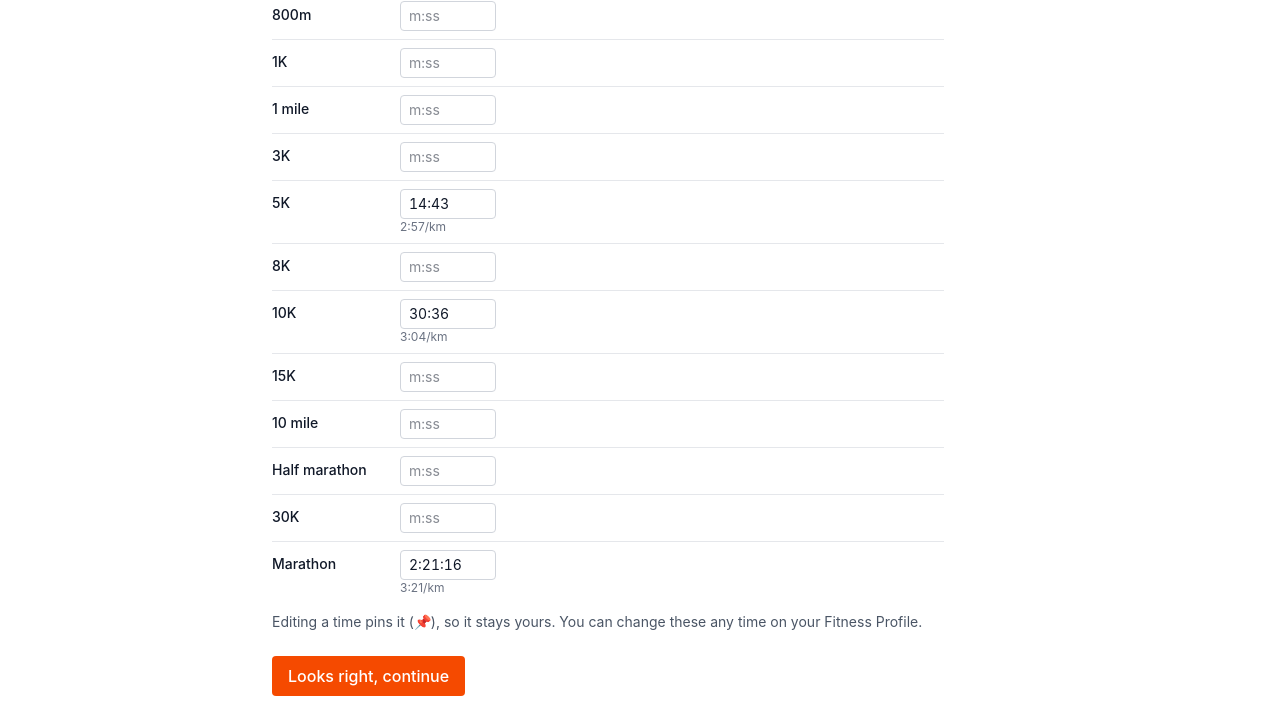
Test: the first-run wizard › pages Your targets in step 3
This screenshot has width=1280, height=708.
(page scrolled)
Click the button "Looks right, continue".
click(369, 676)  # box [272,656,465,696]
(page scrolled)
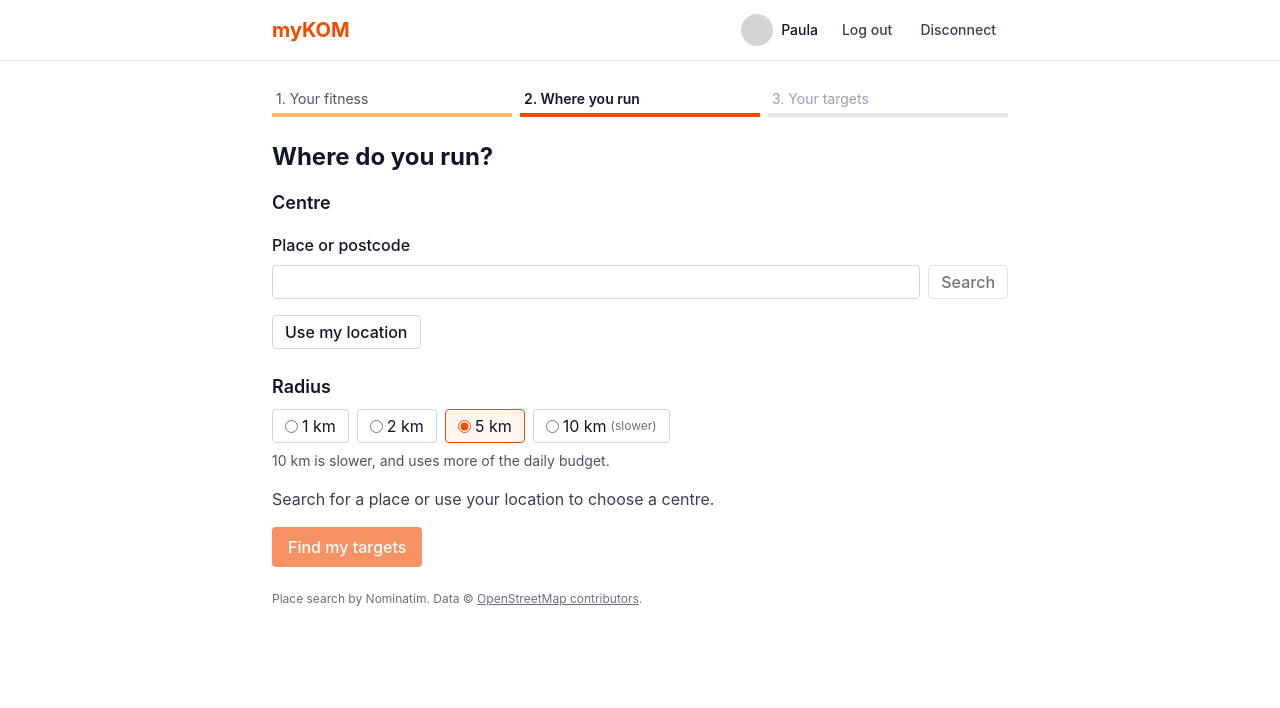
Type "High Park" into the search field labelled "Place or postcode".
click(596, 282); type("High Park")  # box [272,265,920,299]
Then press Enter
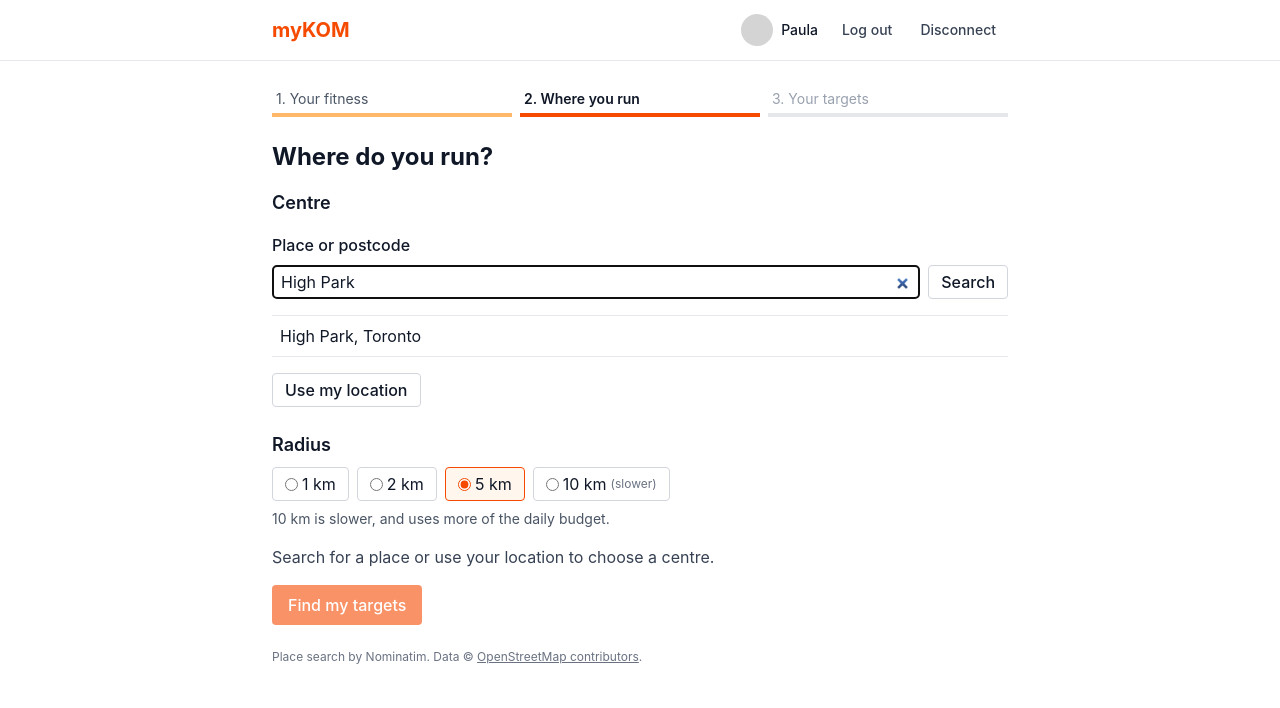
Click the button "High Park, Toronto".
click(351, 336)  # box [272,316,1008,356]
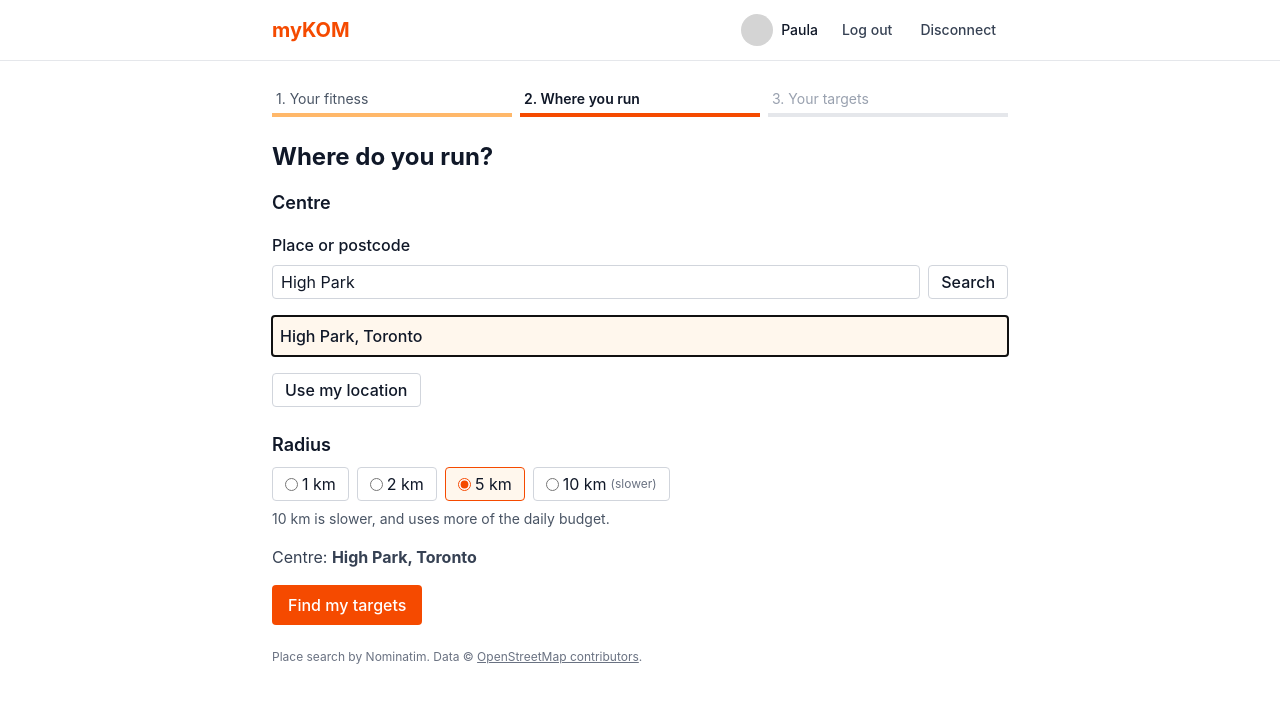
Click the button "Find my targets".
click(347, 605)  # box [272,585,422,625]
(page scrolled)
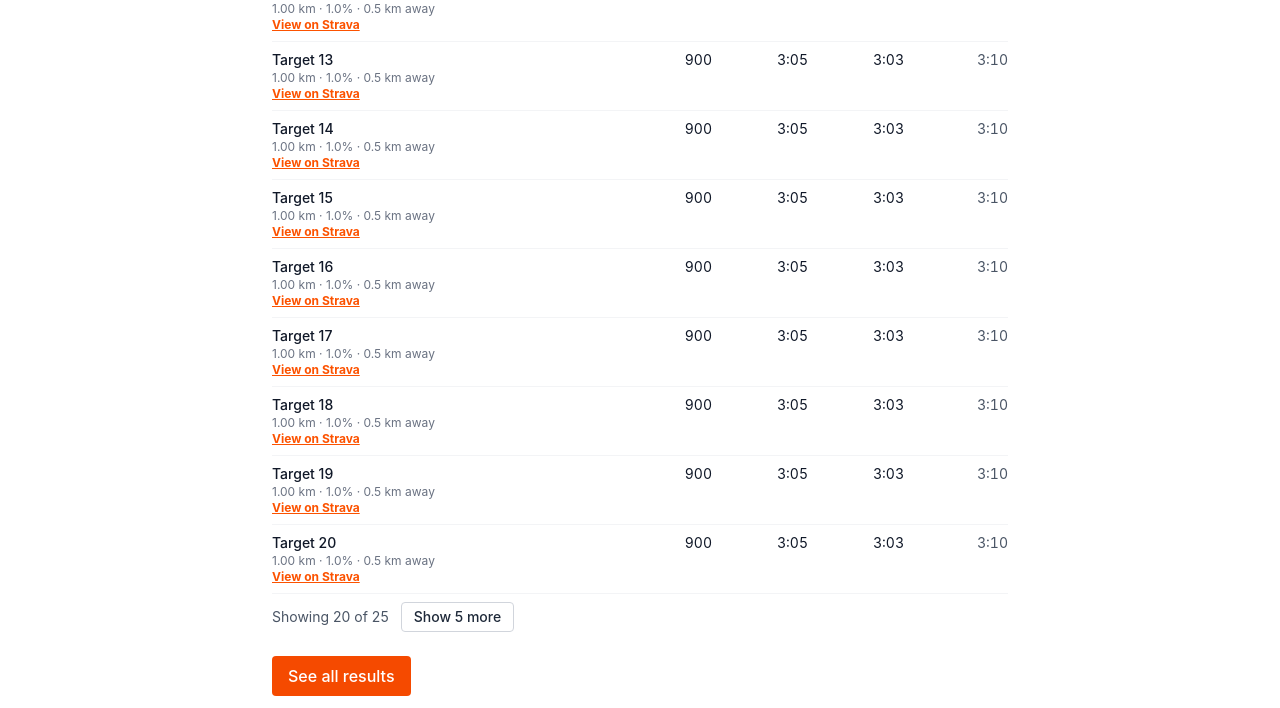
Result: the text "Showing 20 of 25" is shown at [272,607,389,627]
Click the button with aria-label "Show 5 more Your targets".
click(457, 617)  # box [401,602,514,632]
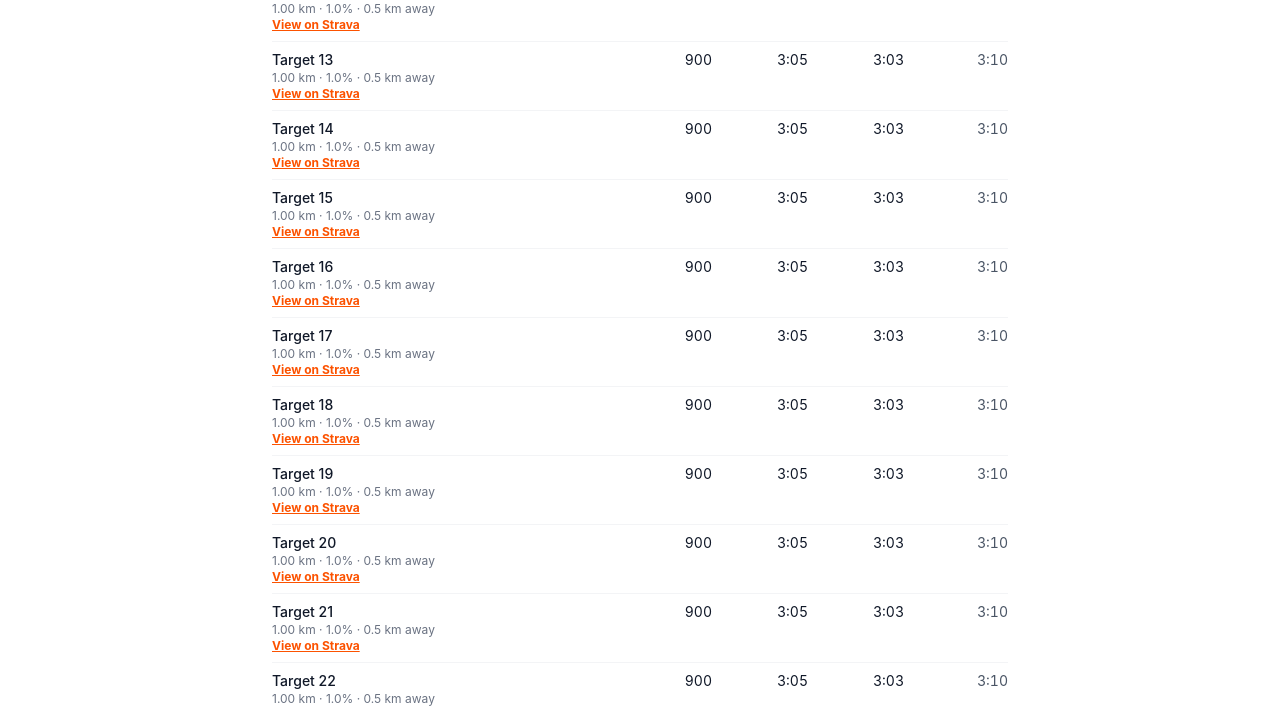
Result: the button "Show 5 more" is gone
